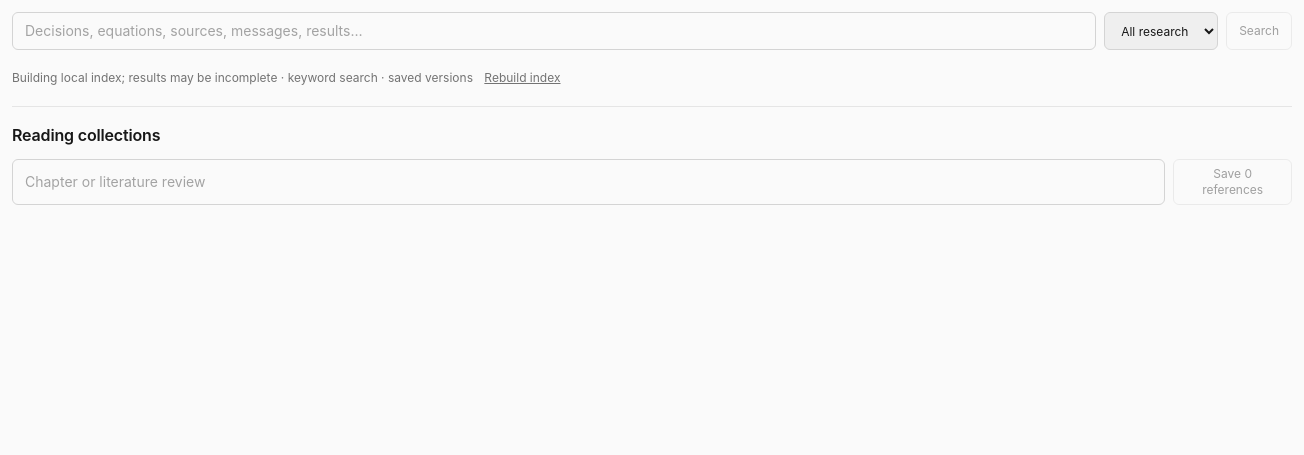
it: clears an earlier failure when a search starts
In the field named "Search project": (554,31) [12, 12, 1096, 50], type "wages"
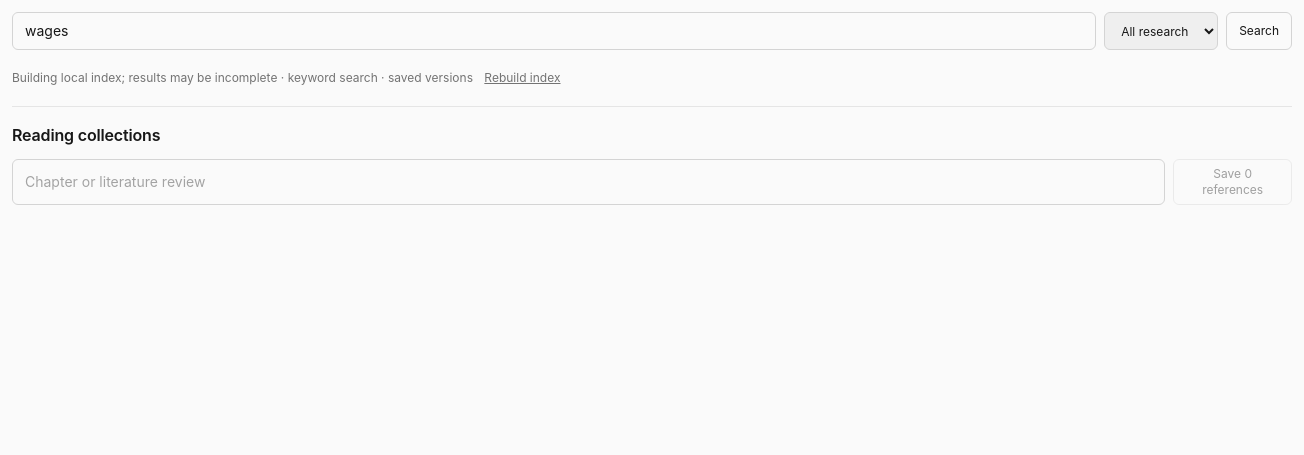
Click the button "Search": (1259,31) [1226, 12, 1292, 50]
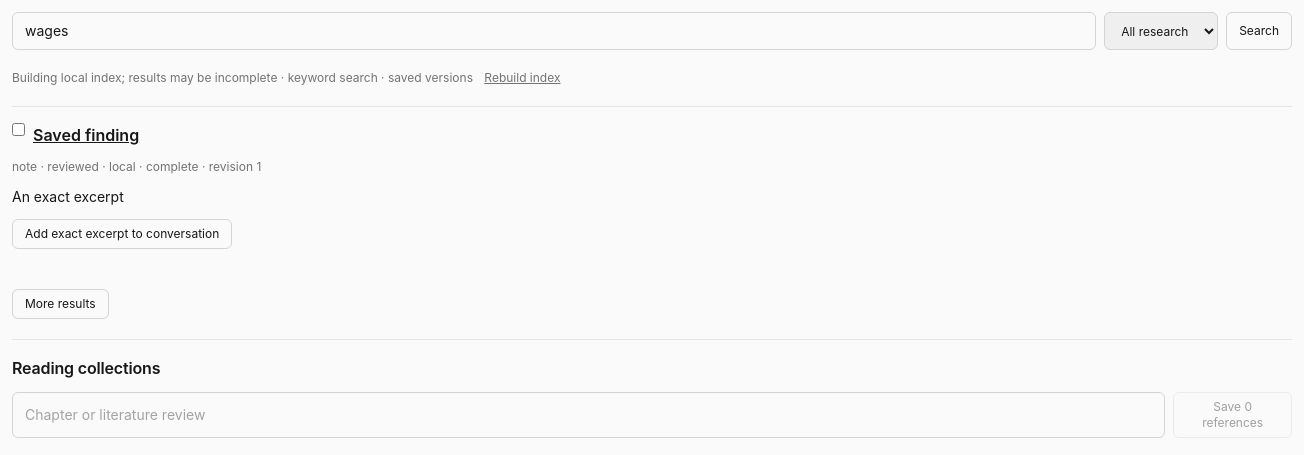
Now the button "Saved finding" is shown, box [33, 123, 139, 147]
